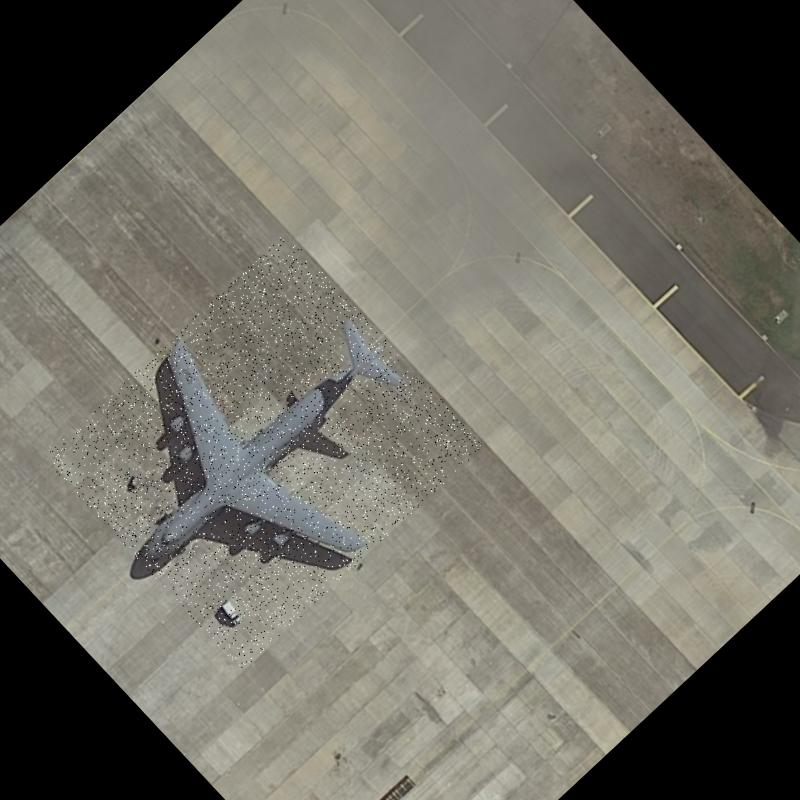A4: (44, 232, 485, 671)
